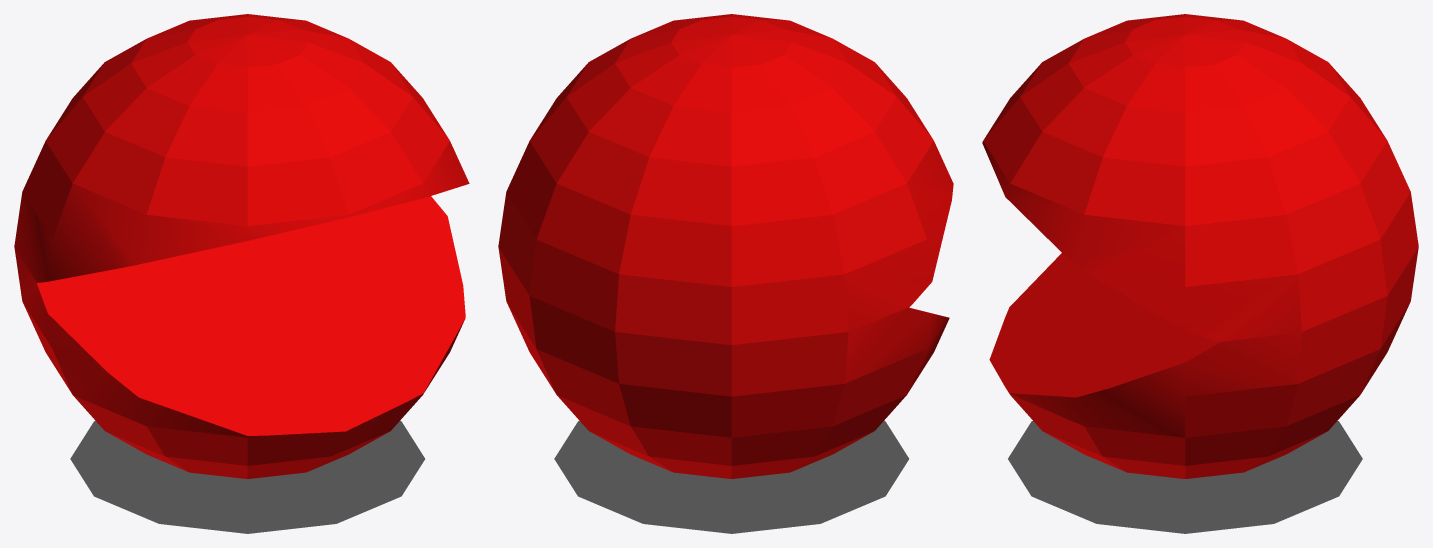
File: EnemyRed.fbx
The picture shows the model from 3 angles, left to right: view 1: azimuth 30°, elevation 25°; view 2: azimuth 150°, elevation 25°; view 3: azimuth 270°, elevation 25°; orthographic projection.
Parts seen in each view (by area): view 1: pSphere2, pCylinder1; view 2: pSphere2, pCylinder1; view 3: pSphere2, pCylinder1.
Boxes of the visible parts, x1=… form: pSphere2: x1=14, y1=14, x2=469, y2=478; pCylinder1: x1=70, y1=421, x2=424, y2=533; pSphere2: x1=498, y1=14, x2=953, y2=478; pCylinder1: x1=554, y1=421, x2=908, y2=533; pSphere2: x1=982, y1=14, x2=1418, y2=478; pCylinder1: x1=1008, y1=421, x2=1362, y2=533.
Bounding box in the file's own units: 0.5949 × 0.6011 × 0.561.
